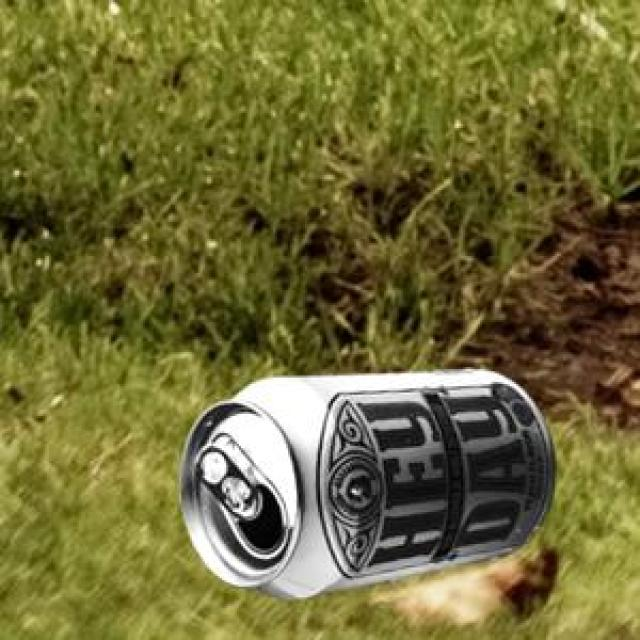logam: (178, 366, 551, 596)
